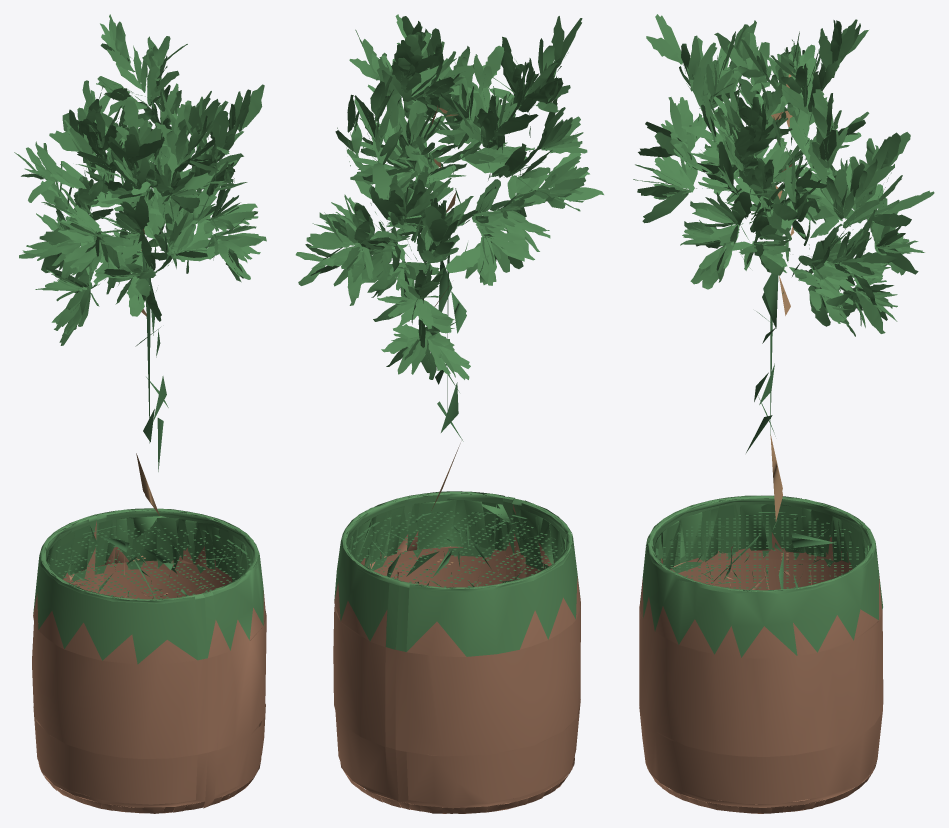
Rendered from ergoflex-plant-2.glb.
3 views of the same model, side by side, from view 1: azimuth 30°, elevation 25°; view 2: azimuth 150°, elevation 25°; view 3: azimuth 270°, elevation 25° (orthographic). The views are drawn at different scales.
Parts seen in each view (by area): view 1: Planter and foliage 1, Planter and foliage 0, Planter and foliage 2; view 2: Planter and foliage 1, Planter and foliage 0, Planter and foliage 2; view 3: Planter and foliage 1, Planter and foliage 0, Planter and foliage 2.
Part boxes in pixels (box(x1,y1,x2,y2)): Planter and foliage 1: box(14, 14, 266, 579); Planter and foliage 0: box(32, 57, 266, 813); Planter and foliage 2: box(33, 508, 263, 664); Planter and foliage 1: box(295, 14, 603, 569); Planter and foliage 0: box(333, 52, 580, 813); Planter and foliage 2: box(334, 491, 580, 656); Planter and foliage 1: box(633, 14, 934, 569); Planter and foliage 0: box(639, 53, 891, 813); Planter and foliage 2: box(640, 495, 882, 657).
Size of the model in its own units: 0.3651 by 1.1 by 0.398.
